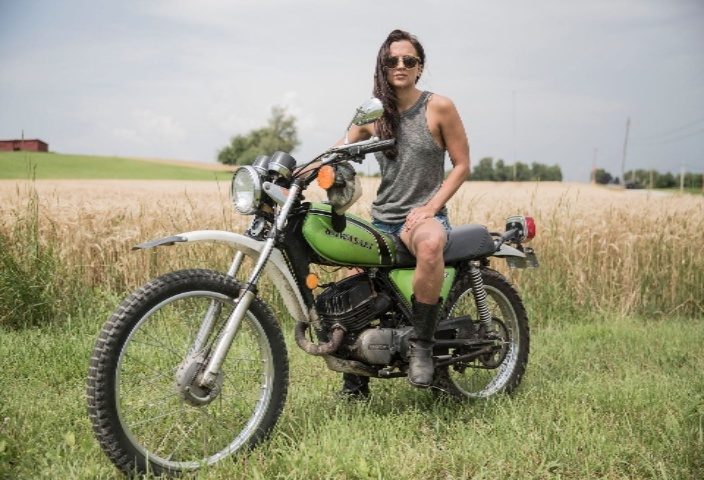motorcycle: (38, 16, 561, 468)
